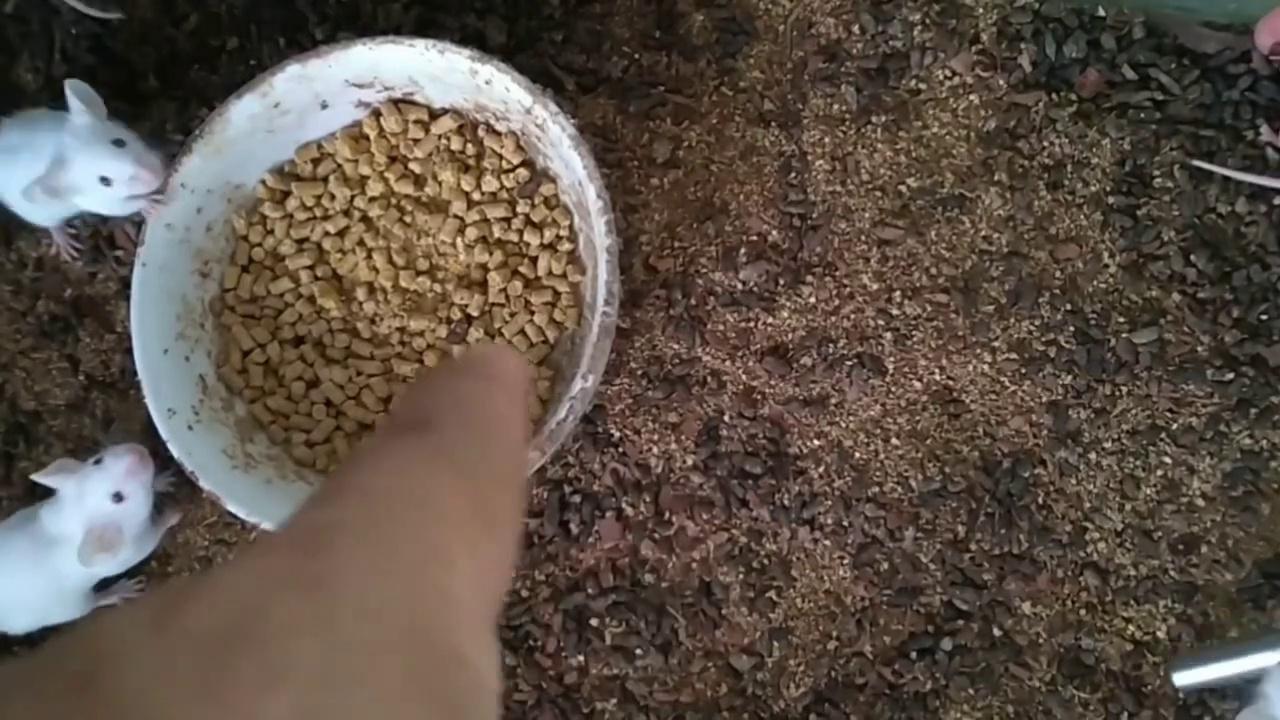rat: (0, 443, 186, 636), (0, 79, 172, 262)
